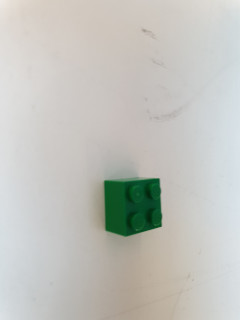2x2 green: (103, 177, 163, 237)
